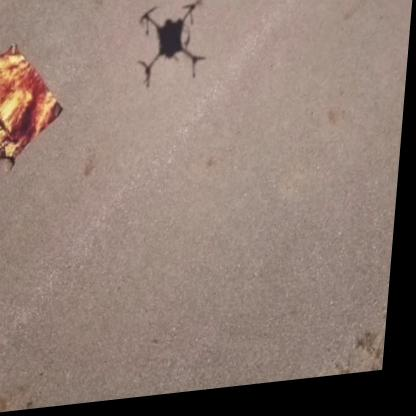fire-poster: (0, 38, 70, 176)
